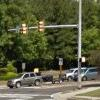Tree: (12, 2, 96, 54)
